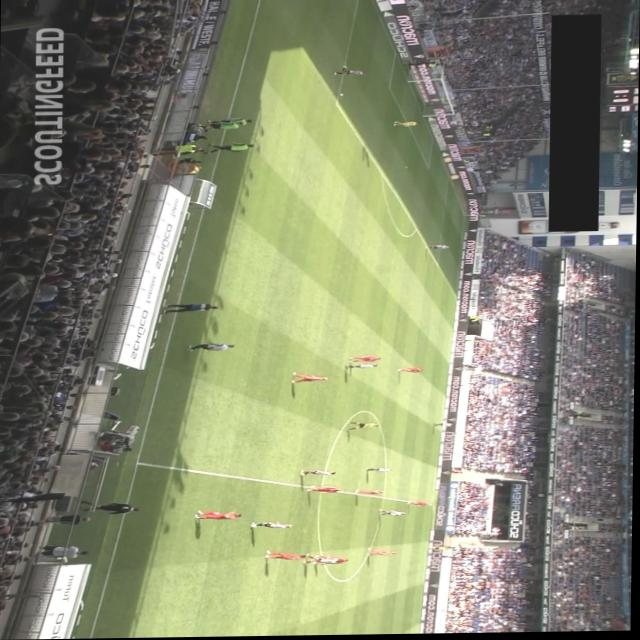goalkeeper: (391, 122, 420, 128)
player: (196, 510, 243, 521), (265, 550, 310, 561), (187, 343, 235, 353), (292, 373, 329, 384), (305, 485, 343, 495), (304, 556, 338, 566), (315, 556, 349, 566), (251, 522, 293, 530), (365, 548, 398, 558), (333, 66, 365, 76), (406, 500, 435, 510), (379, 509, 408, 518), (348, 357, 382, 364), (301, 471, 336, 477), (346, 365, 378, 370), (398, 368, 423, 374), (357, 491, 385, 496), (432, 424, 454, 430), (425, 246, 451, 251), (367, 469, 395, 473)
referee: (348, 423, 381, 431), (426, 546, 453, 554)
